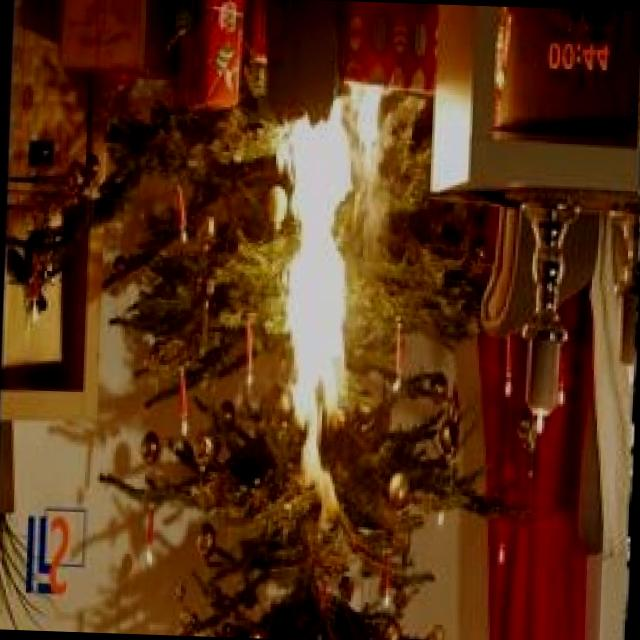fire: (252, 68, 402, 522)
